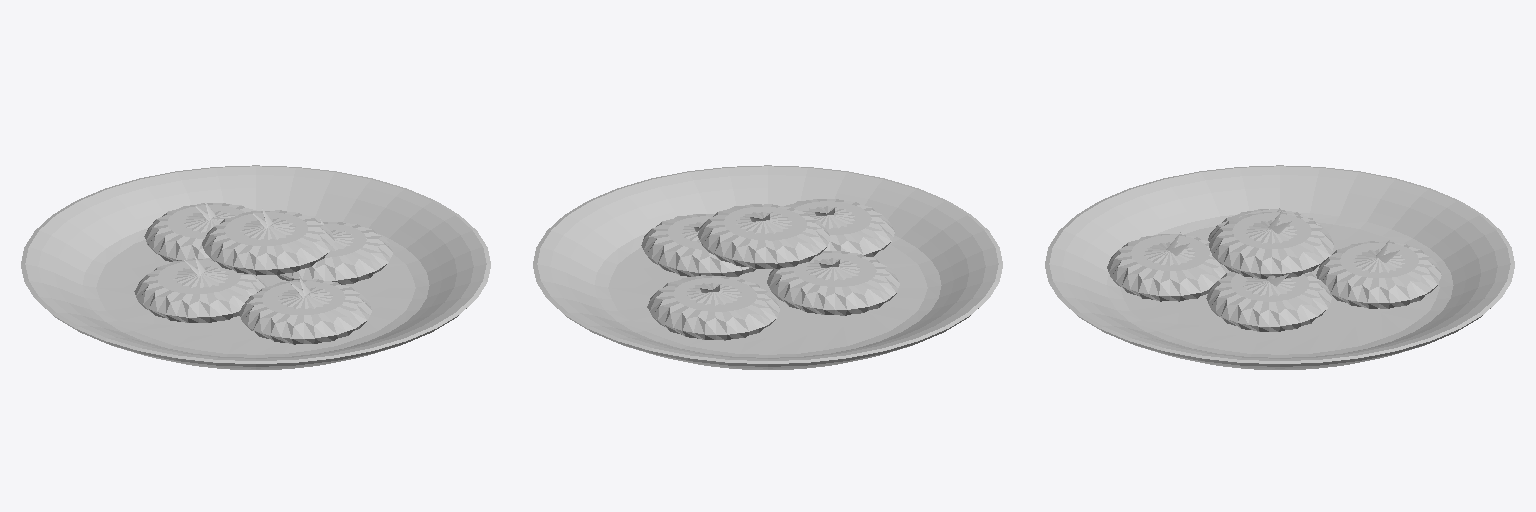
File: kue kamir.obj
The picture shows the model from 3 angles: view 1: azimuth 30°, elevation 25°; view 2: azimuth 150°, elevation 25°; view 3: azimuth 270°, elevation 25°; orthographic projection.
Parts seen in each view (by area): view 1: Cylinder, Cylinder.007_Cylinder.018, Cylinder.005_Cylinder.015, Cylinder.009_Cylinder.012, Cylinder.001, Cylinder.003_Cylinder.011, Cylinder.008_Cylinder.019, Cylinder.006_Cylinder.016, Cylinder.010_Cylinder.013, Cylinder.004_Cylinder.014, Cylinder.002_Cylinder.010; view 2: Cylinder, Cylinder.007_Cylinder.018, Cylinder.003_Cylinder.011, Cylinder.009_Cylinder.012, Cylinder.001, Cylinder.005_Cylinder.015, Cylinder.004_Cylinder.014, Cylinder.008_Cylinder.019, Cylinder.010_Cylinder.013, Cylinder.006_Cylinder.016, Cylinder.002_Cylinder.010; view 3: Cylinder, Cylinder.003_Cylinder.011, Cylinder.007_Cylinder.018, Cylinder.001, Cylinder.005_Cylinder.015, Cylinder.008_Cylinder.019, Cylinder.006_Cylinder.016, Cylinder.004_Cylinder.014, Cylinder.002_Cylinder.010.
Boxes of the visible parts, box(x1,y1,x2,y2) form: Cylinder: box(21, 165, 490, 369); Cylinder.007_Cylinder.018: box(202, 210, 334, 275); Cylinder.005_Cylinder.015: box(239, 279, 371, 344); Cylinder.009_Cylinder.012: box(134, 258, 266, 322); Cylinder.001: box(277, 222, 392, 284); Cylinder.003_Cylinder.011: box(144, 203, 256, 261); Cylinder.008_Cylinder.019: box(224, 212, 307, 245); Cylinder.006_Cylinder.016: box(262, 281, 345, 314); Cylinder.010_Cylinder.013: box(157, 260, 240, 293); Cylinder.004_Cylinder.014: box(167, 205, 244, 238); Cylinder.002_Cylinder.010: box(324, 224, 366, 257); Cylinder: box(533, 165, 1002, 369); Cylinder.007_Cylinder.018: box(697, 204, 830, 268); Cylinder.003_Cylinder.011: box(647, 275, 779, 340); Cylinder.009_Cylinder.012: box(767, 251, 899, 315); Cylinder.001: box(641, 214, 755, 276); Cylinder.005_Cylinder.015: box(784, 199, 894, 256); Cylinder.004_Cylinder.014: box(673, 278, 756, 311); Cylinder.008_Cylinder.019: box(723, 207, 806, 240); Cylinder.010_Cylinder.013: box(793, 253, 876, 286); Cylinder.006_Cylinder.016: box(794, 201, 871, 234); Cylinder.002_Cylinder.010: box(667, 216, 710, 249); Cylinder: box(1045, 165, 1514, 369); Cylinder.003_Cylinder.011: box(1316, 241, 1441, 308); Cylinder.007_Cylinder.018: box(1209, 212, 1333, 278); Cylinder.001: box(1206, 272, 1331, 331); Cylinder.005_Cylinder.015: box(1107, 234, 1230, 301); Cylinder.008_Cylinder.019: box(1233, 213, 1311, 248); Cylinder.006_Cylinder.016: box(1131, 235, 1209, 270); Cylinder.004_Cylinder.014: box(1340, 243, 1418, 277); Cylinder.002_Cylinder.010: box(1230, 274, 1309, 301).
Size of the model in its own units: 2.31 by 0.4784 by 2.31.